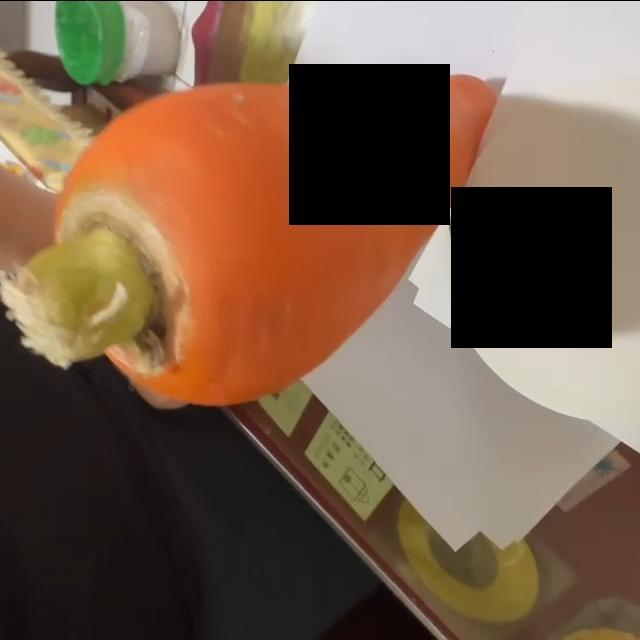carrot: (7, 72, 505, 408)
